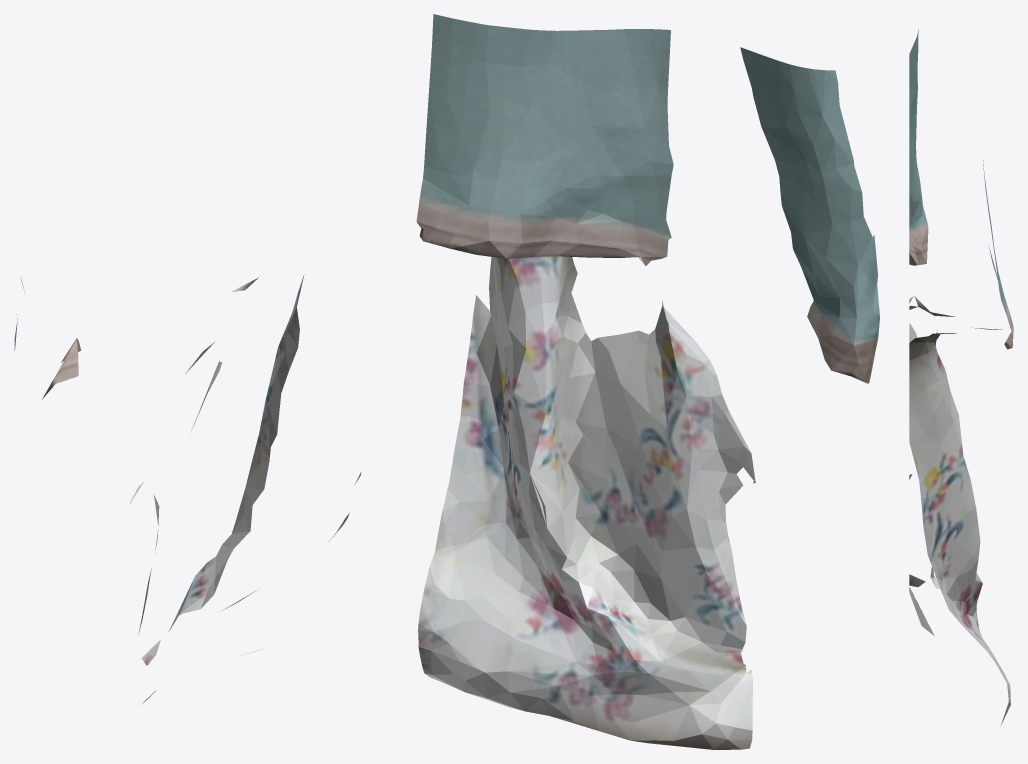
The picture shows the model from 3 angles, left to right: view 1: azimuth 30°, elevation 25°; view 2: azimuth 150°, elevation 25°; view 3: azimuth 270°, elevation 25°; orthographic projection. The views are drawn at different scales.
Size of the model in its own units: 146 by 242 by 37.77.
1 material, 1 textured.
